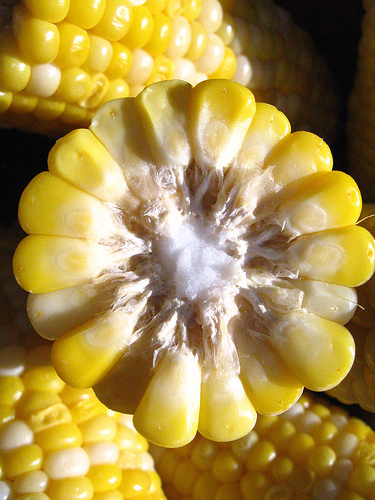corn: (10, 76, 372, 450), (0, 0, 252, 131), (0, 321, 176, 498)
